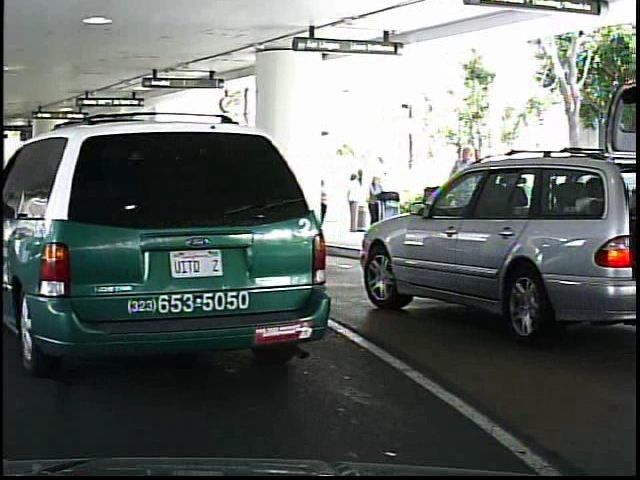person: (441, 140, 486, 266), (361, 170, 391, 241)
